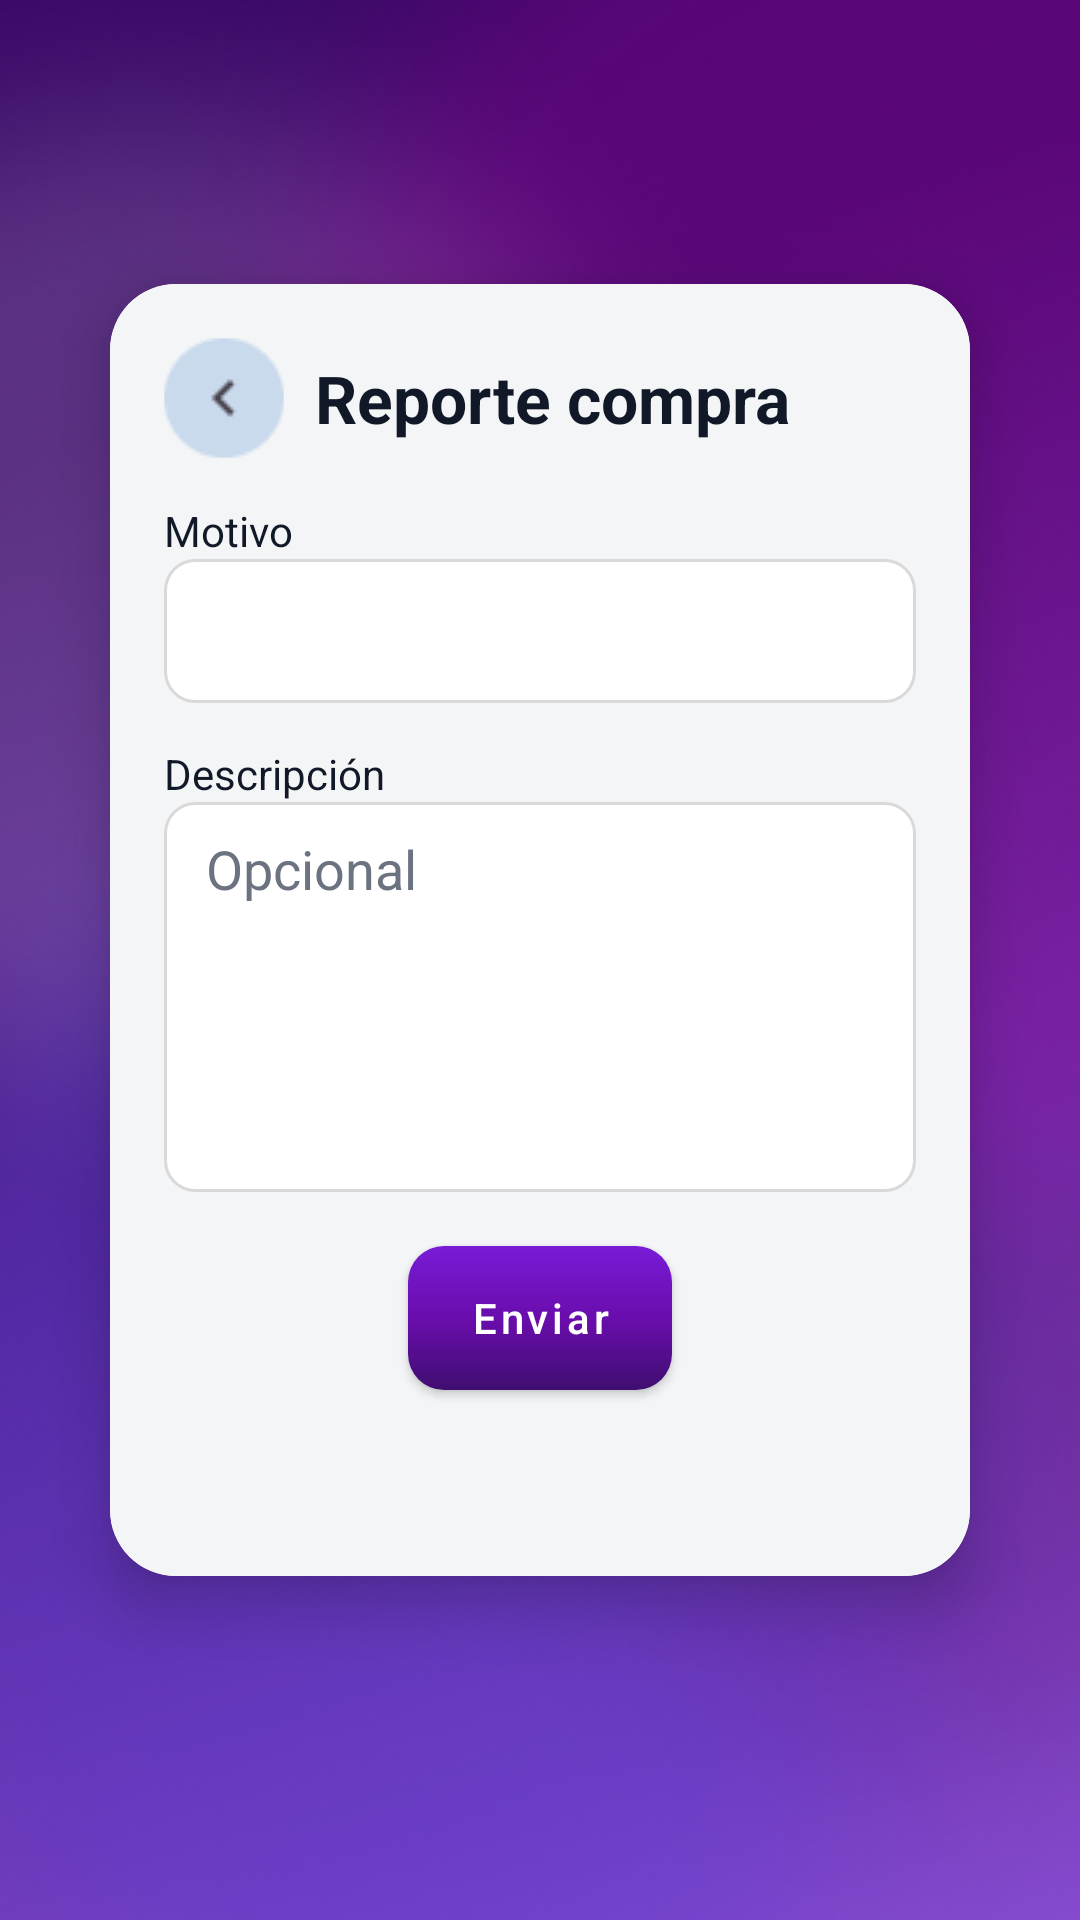

Where to tap for icons on this 1080px×1920px app screen, as (x,y):
Volver: (224,398)
